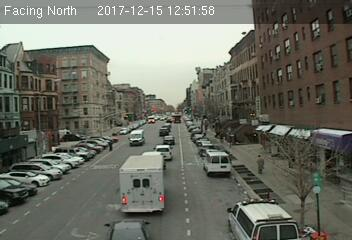car: (152, 144, 174, 159), (162, 135, 176, 144)
pedestrian: (254, 152, 265, 176)
police: (227, 196, 299, 240)
truck: (119, 155, 165, 212), (204, 152, 231, 176), (127, 130, 145, 146)
